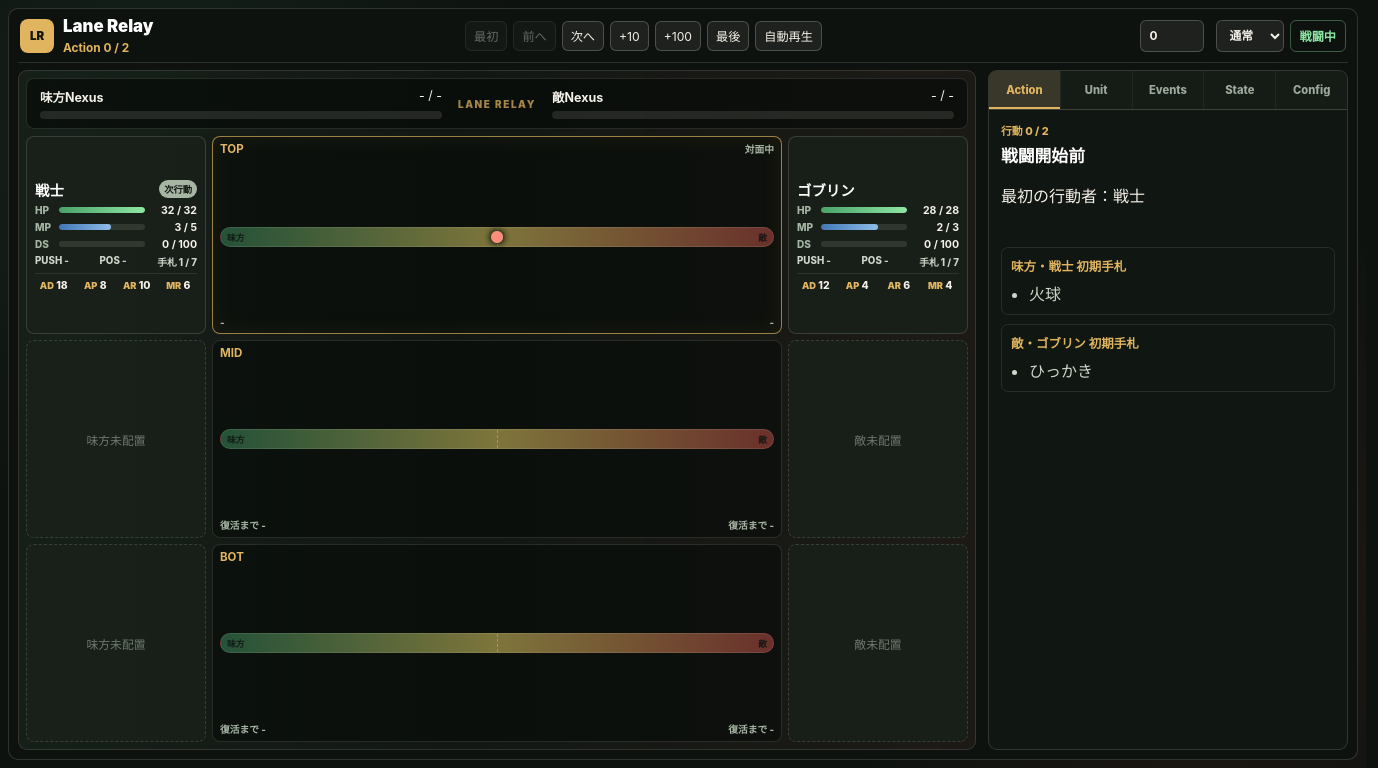
App › uses Japanese controls and moves cursor
Click the button "次へ": (583, 36) [562,21,604,51]
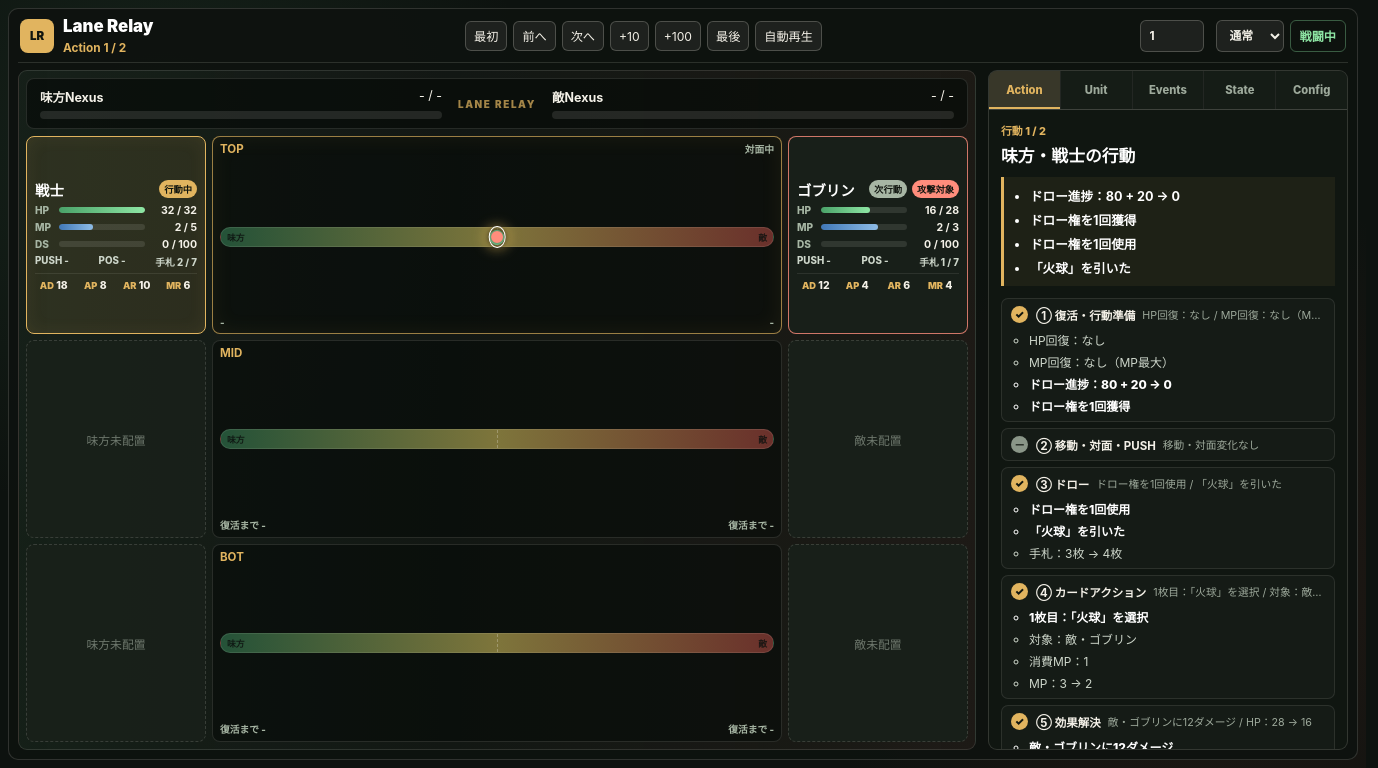
Result: the text "行動 1 / 2" is shown at [1001,124,1046,138]
Click the button "最後": (728, 36) [707,21,749,51]
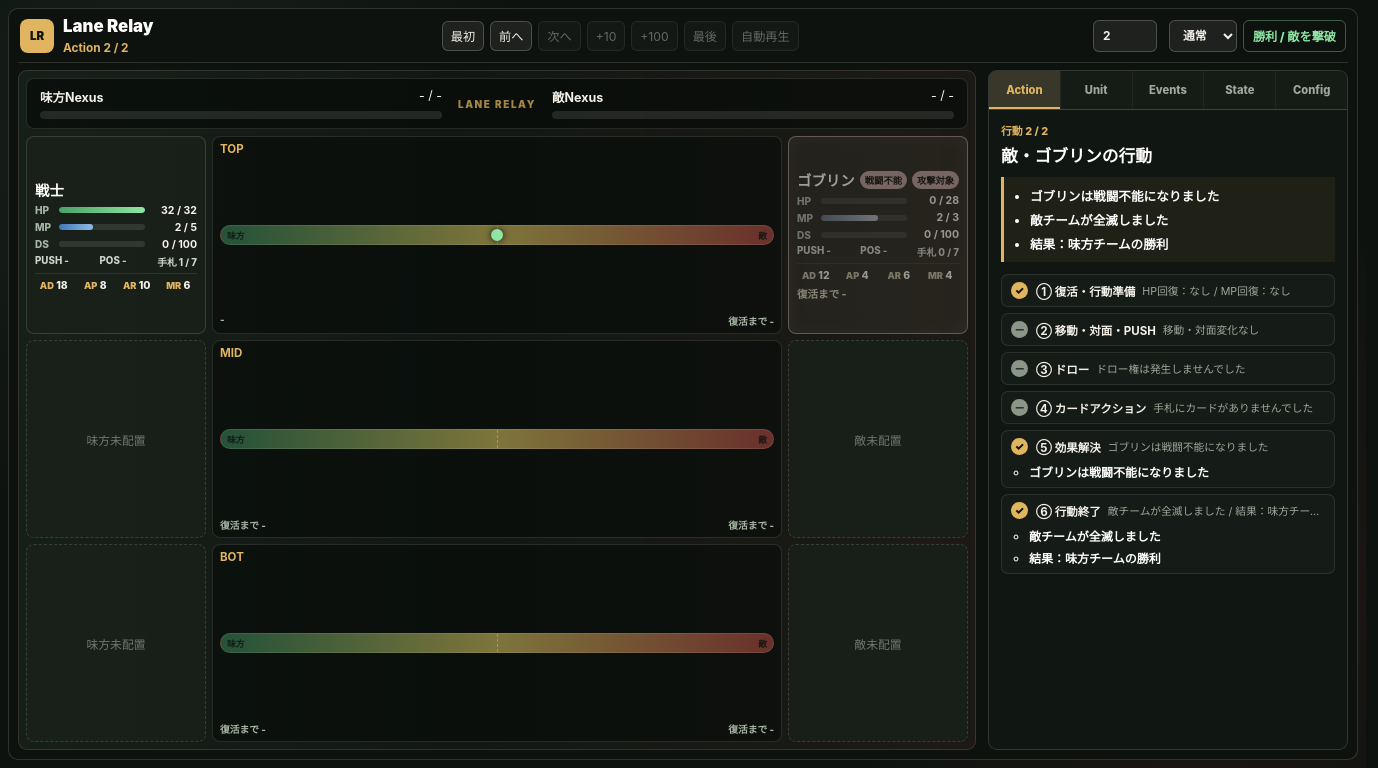
Result: the text "行動 2 / 2" is shown at [1001,124,1048,138]
Click the button "前へ": (511, 36) [490,21,532,51]
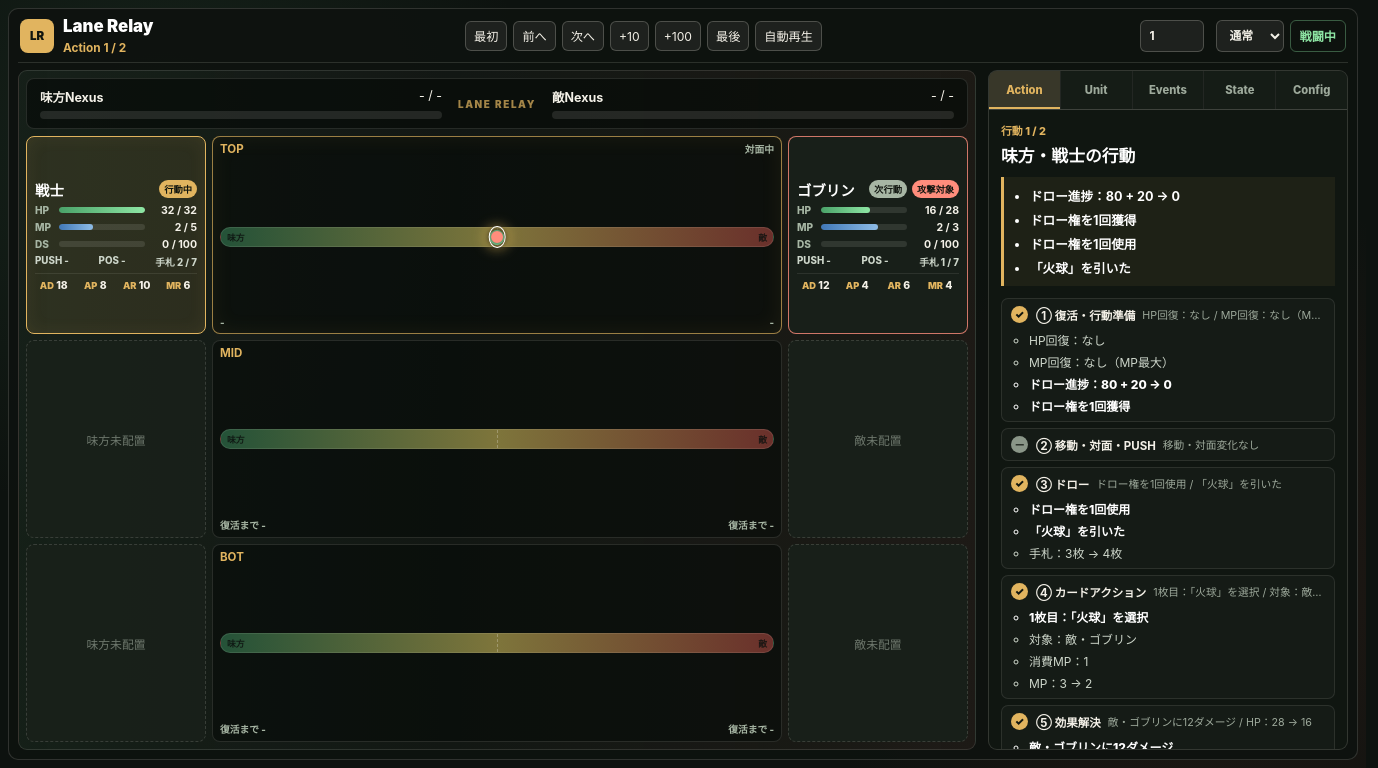
Result: the text "行動 1 / 2" is shown at [1001,124,1046,138]
Click the button "+10": (629, 36) [610,21,649,51]
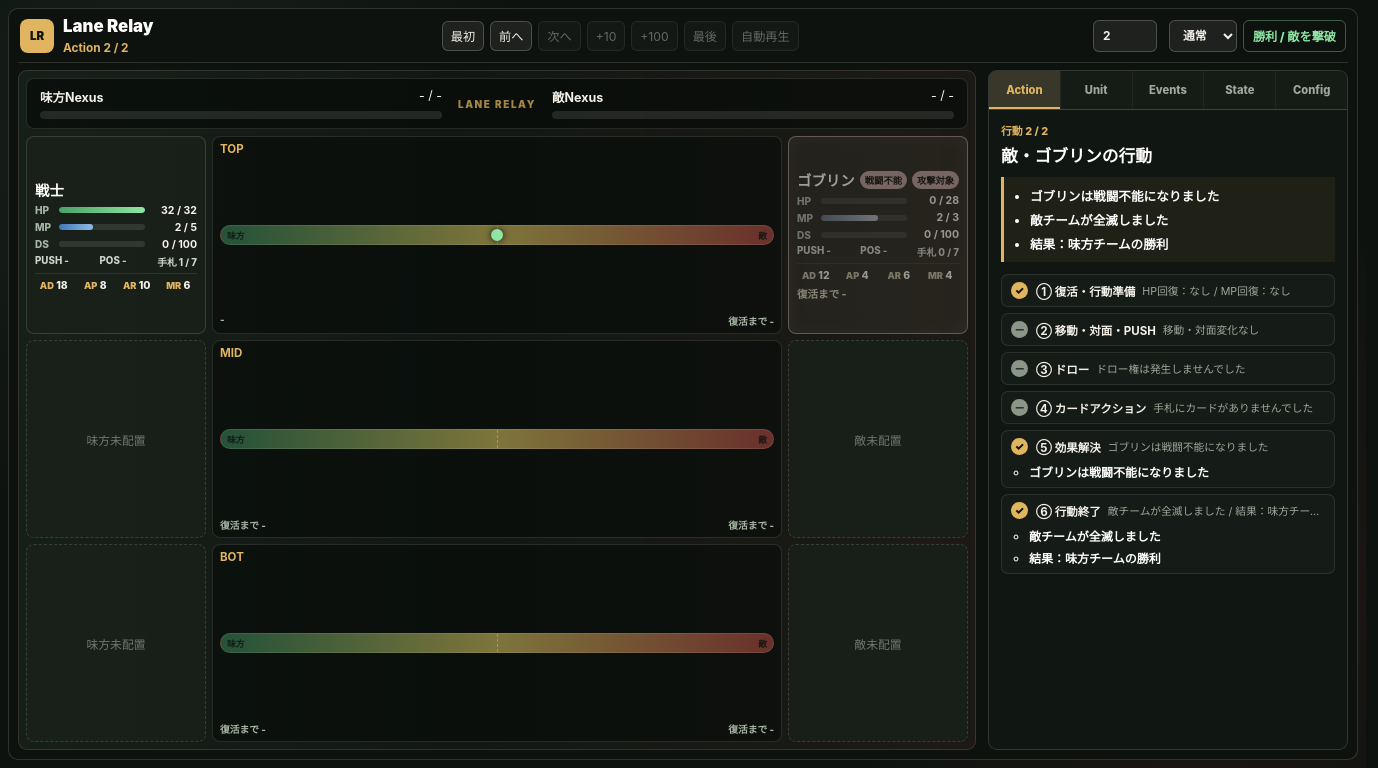
Result: the text "行動 2 / 2" is shown at [1001,124,1048,138]
Click the button "最初": (463, 36) [442,21,484,51]
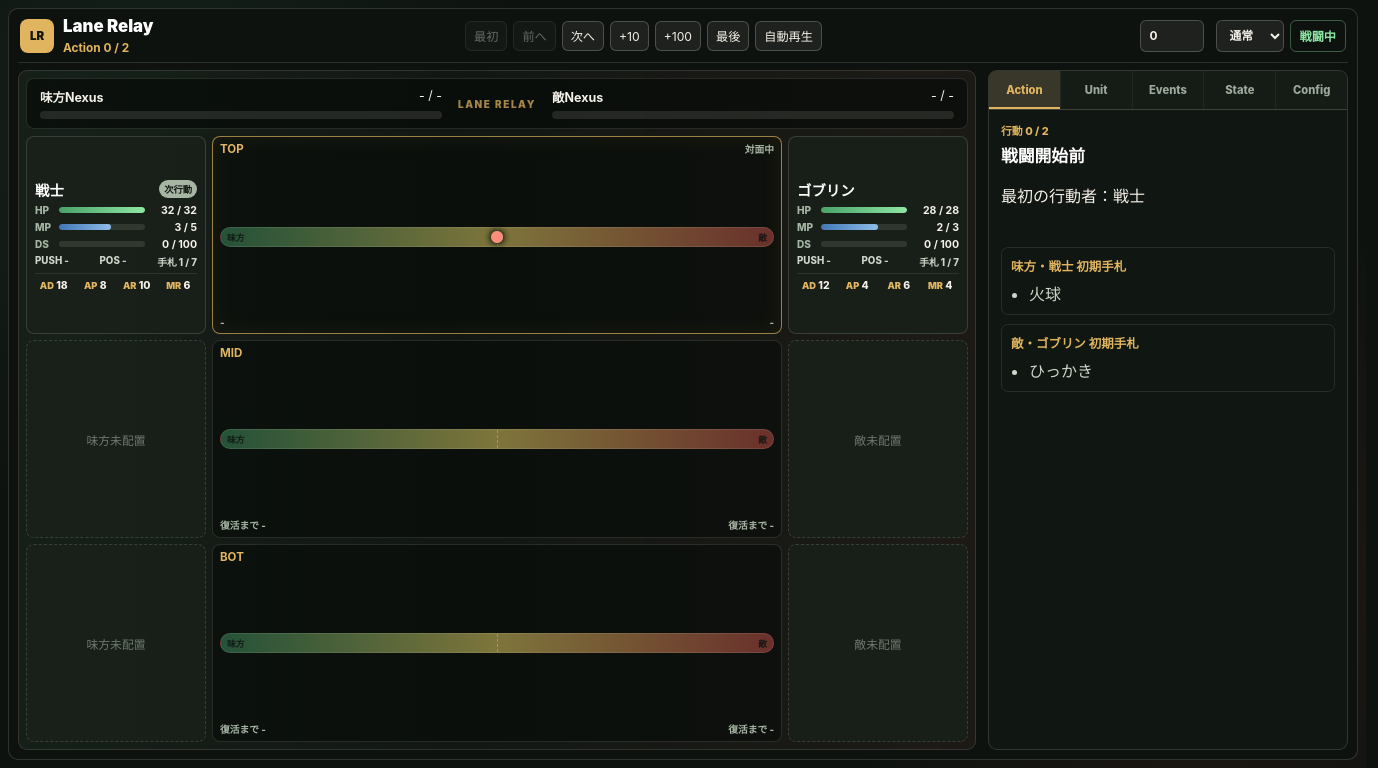
Result: the text "行動 0 / 2" is shown at [1001,124,1049,138]
